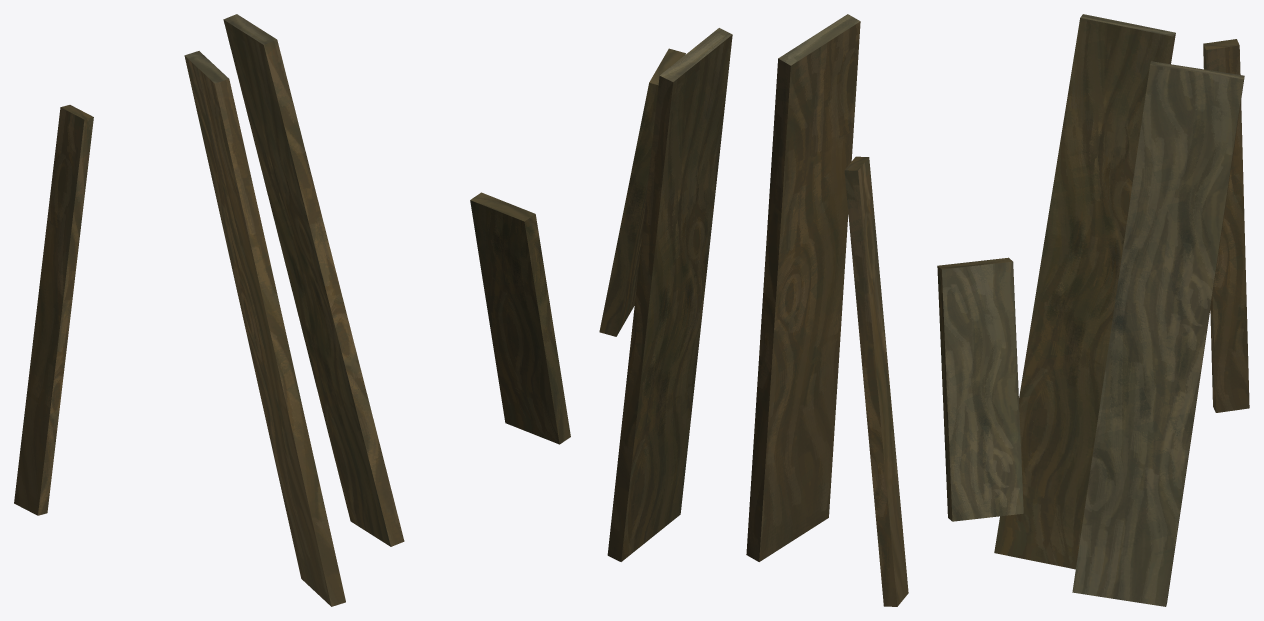
Rendered from Debris_water03.fbx.
3 views of the same model, side by side, from view 1: azimuth 30°, elevation 25°; view 2: azimuth 150°, elevation 25°; view 3: azimuth 270°, elevation 25° (orthographic). The views are drawn at different scales.
Visible parts, largest first — view 1: Debris_water03; view 2: Debris_water03; view 3: Debris_water03.
Part boxes in pixels (bbox=[...]): Debris_water03: bbox=[14, 14, 570, 606]; Debris_water03: bbox=[599, 14, 908, 606]; Debris_water03: bbox=[937, 14, 1249, 606].
Size of the model in its own units: 1.8 by 2.2 by 1.21.
1 material, 1 textured.
